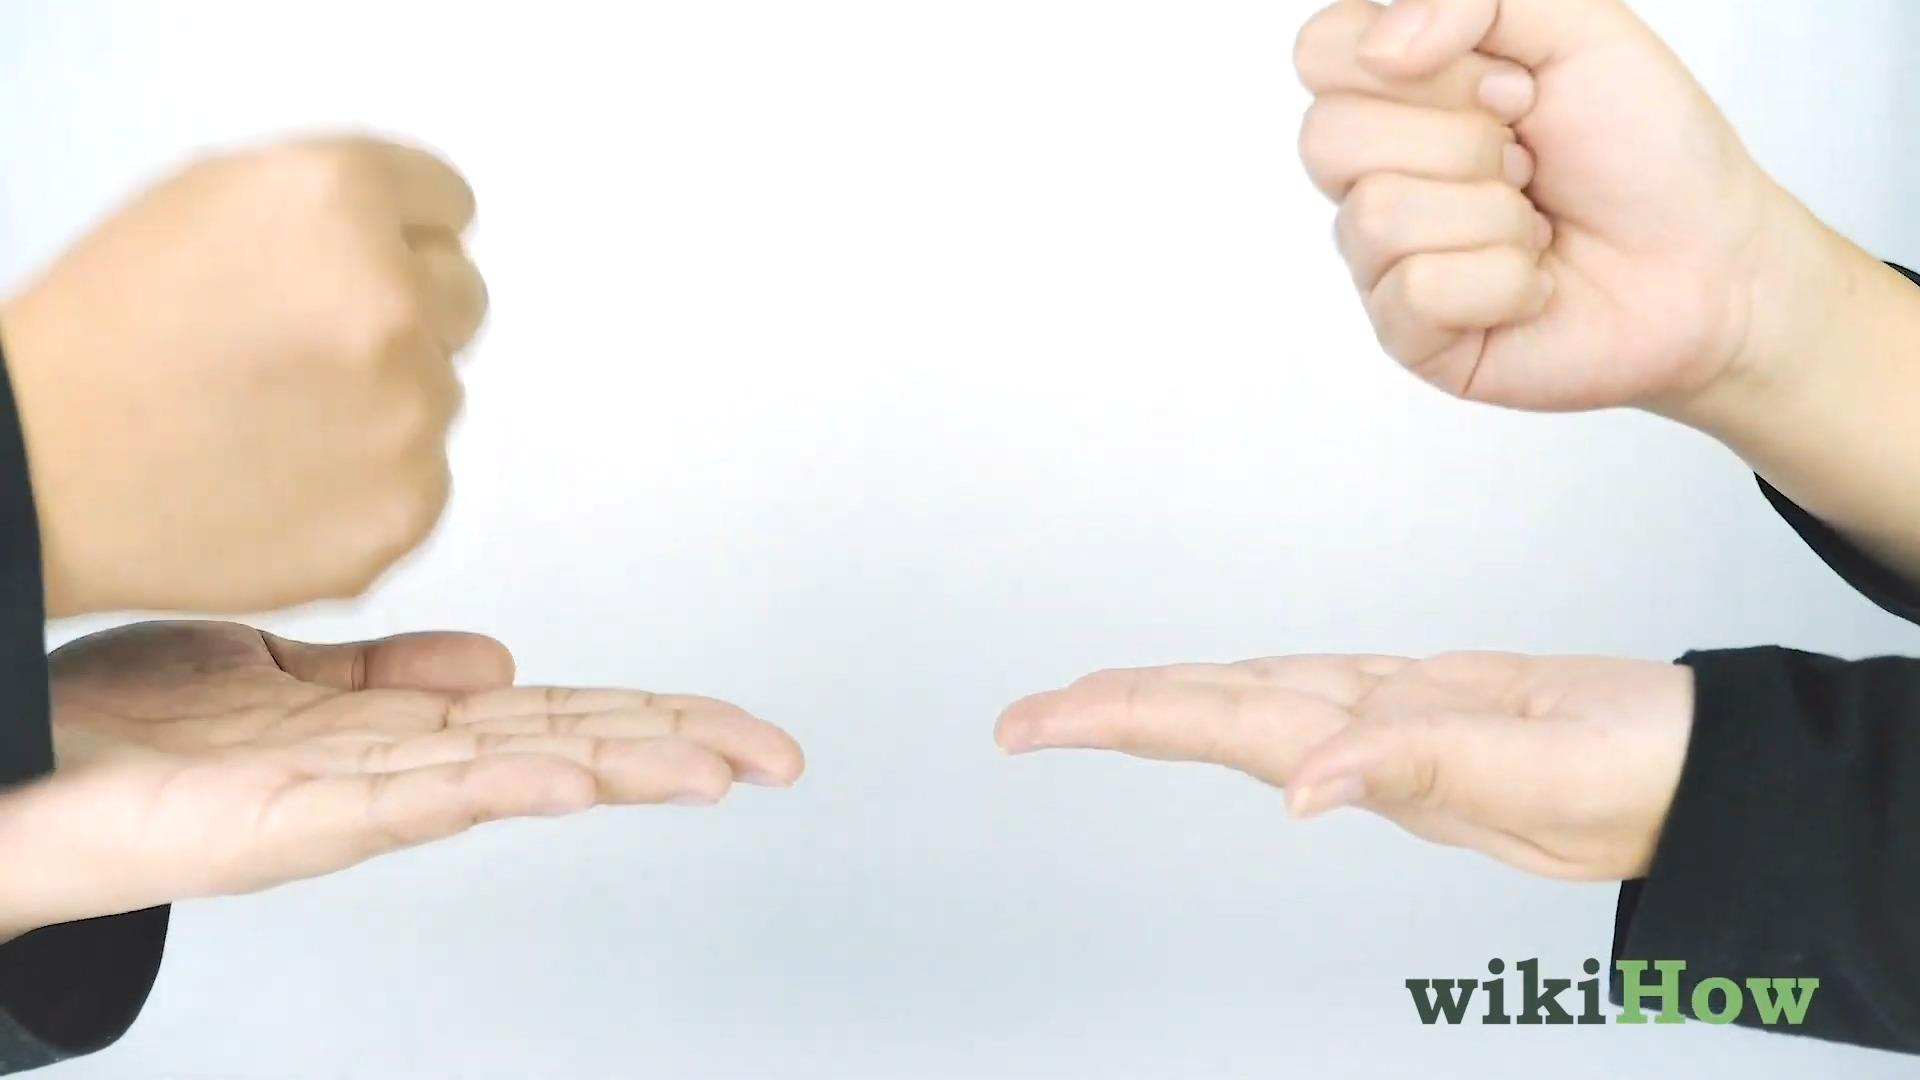Rock: (11, 125, 492, 609), (1287, 0, 1737, 414)
